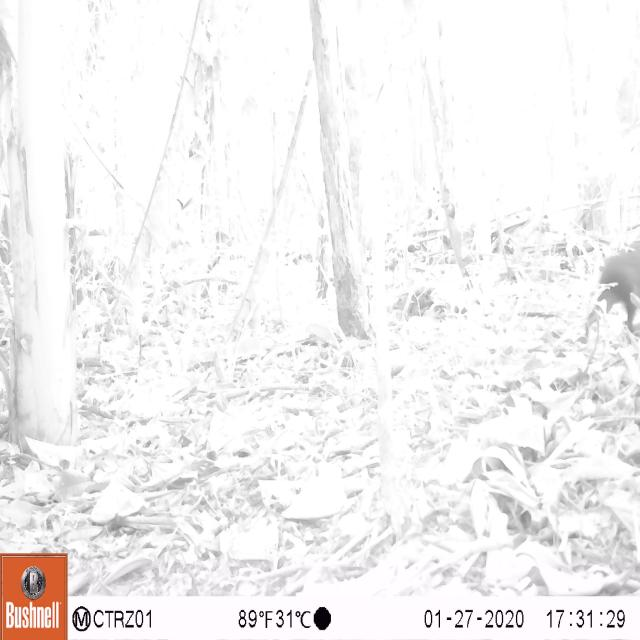Black Agouti: (578, 236, 638, 352)
